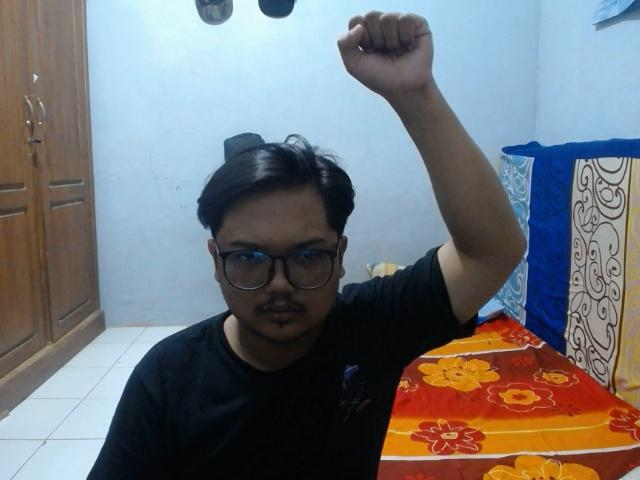Grab: (332, 8, 440, 103)
